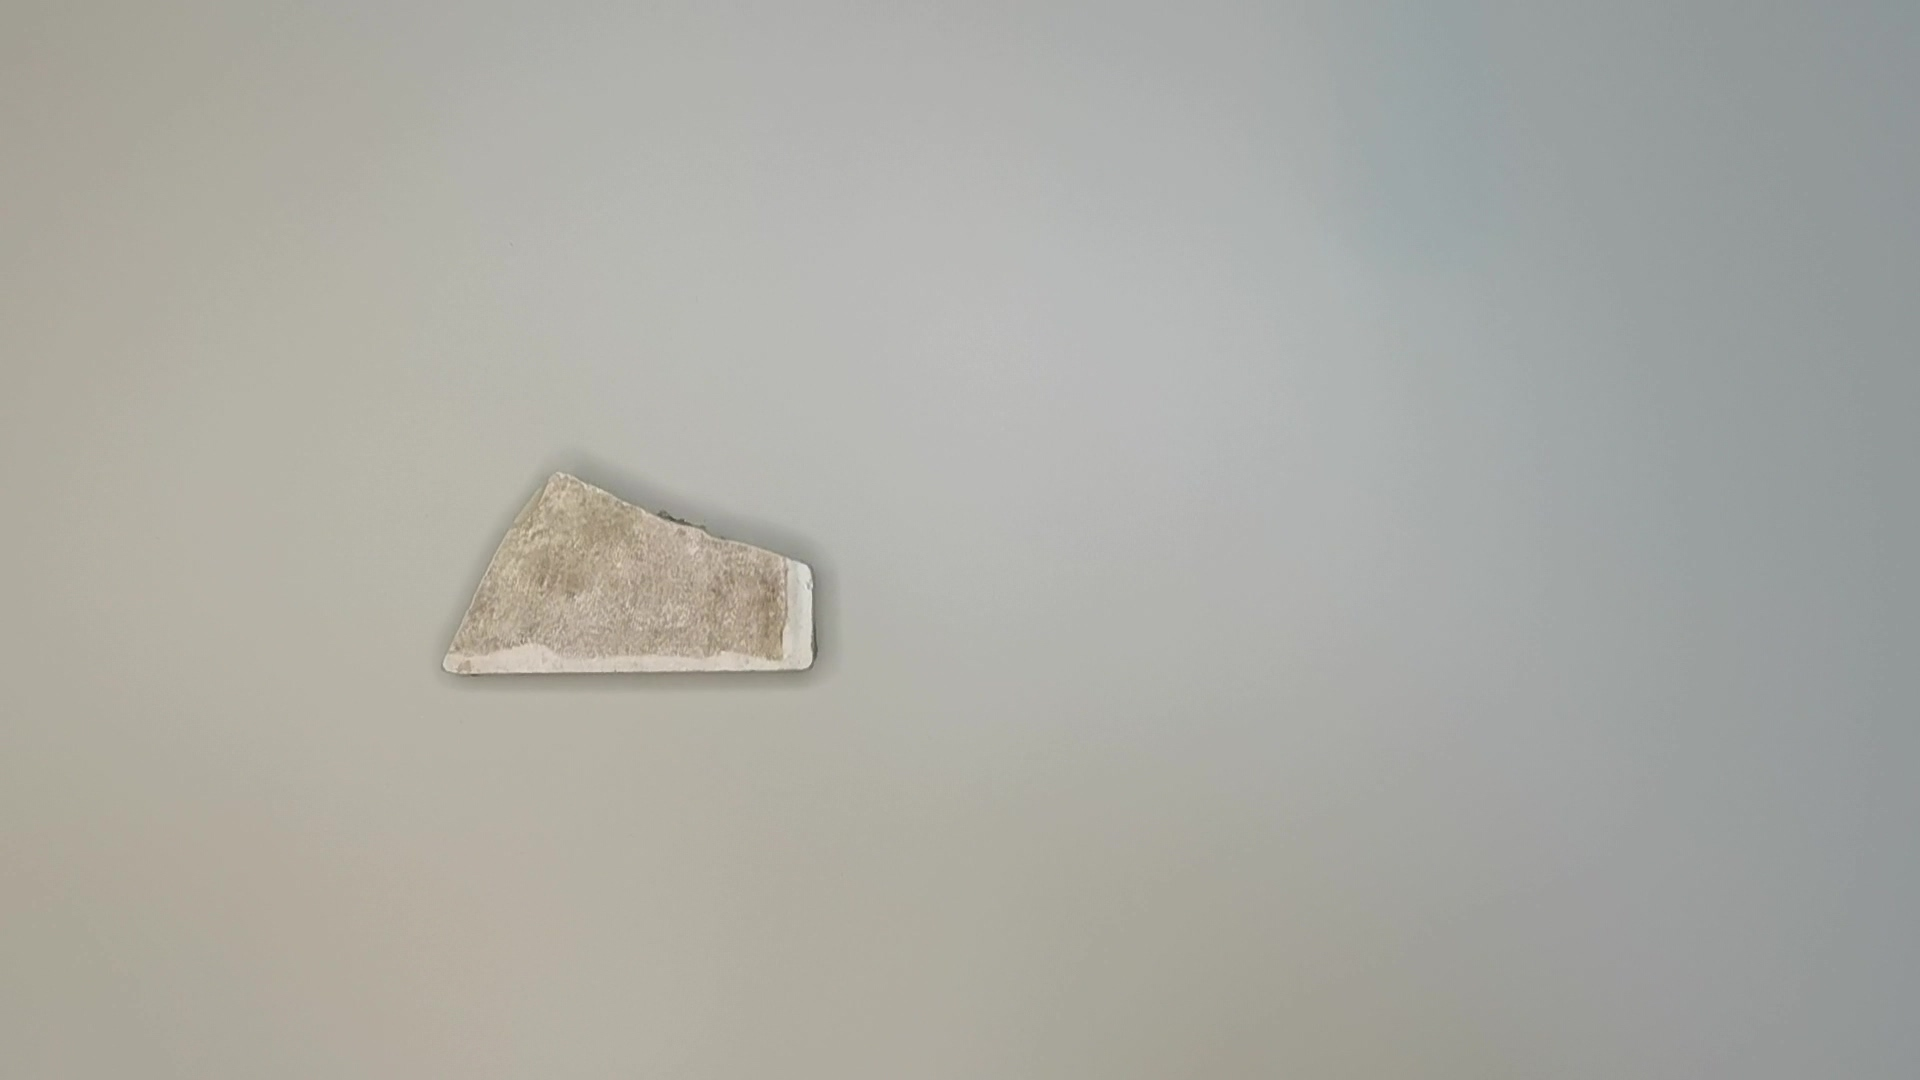ceramic: (440, 460, 825, 691)
